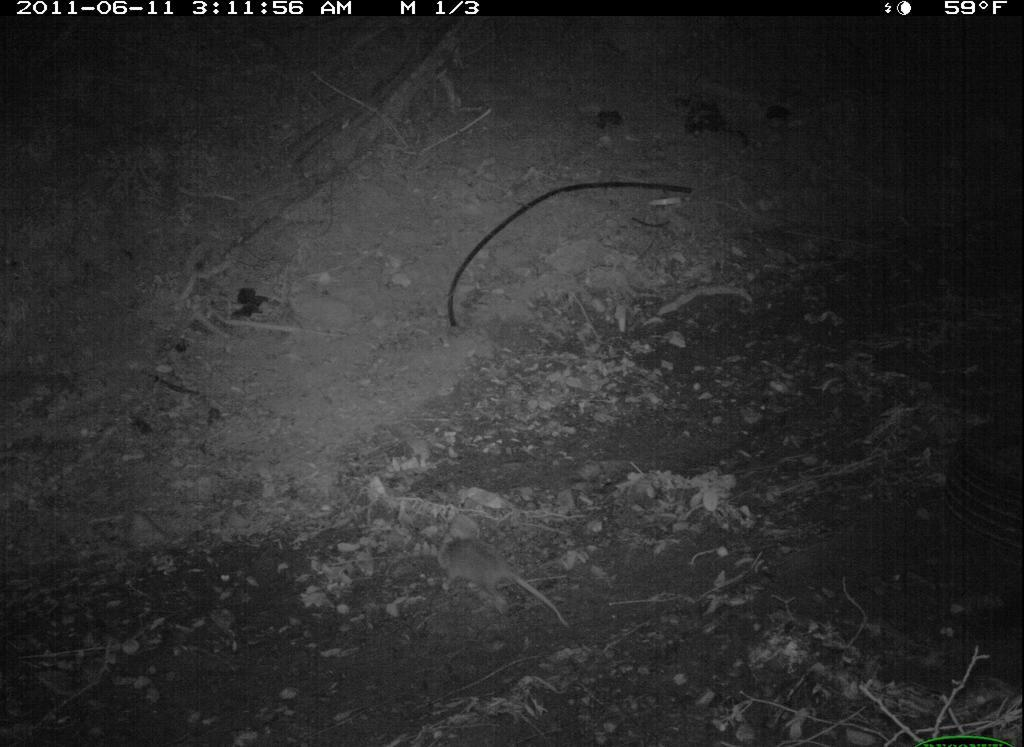opossum: (429, 516, 569, 651)
